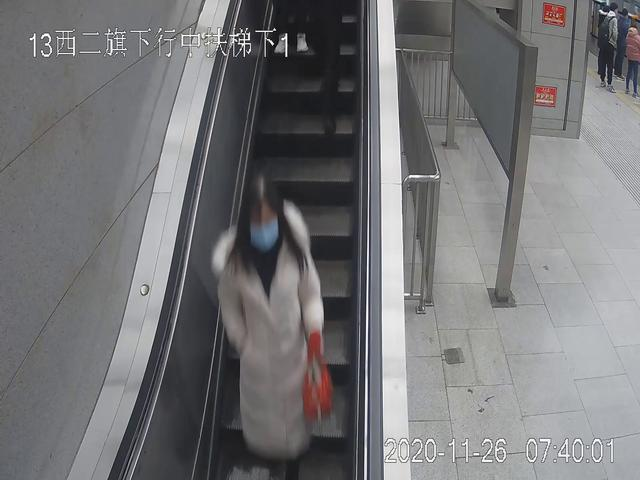person: (214, 170, 326, 480), (598, 4, 619, 93)
